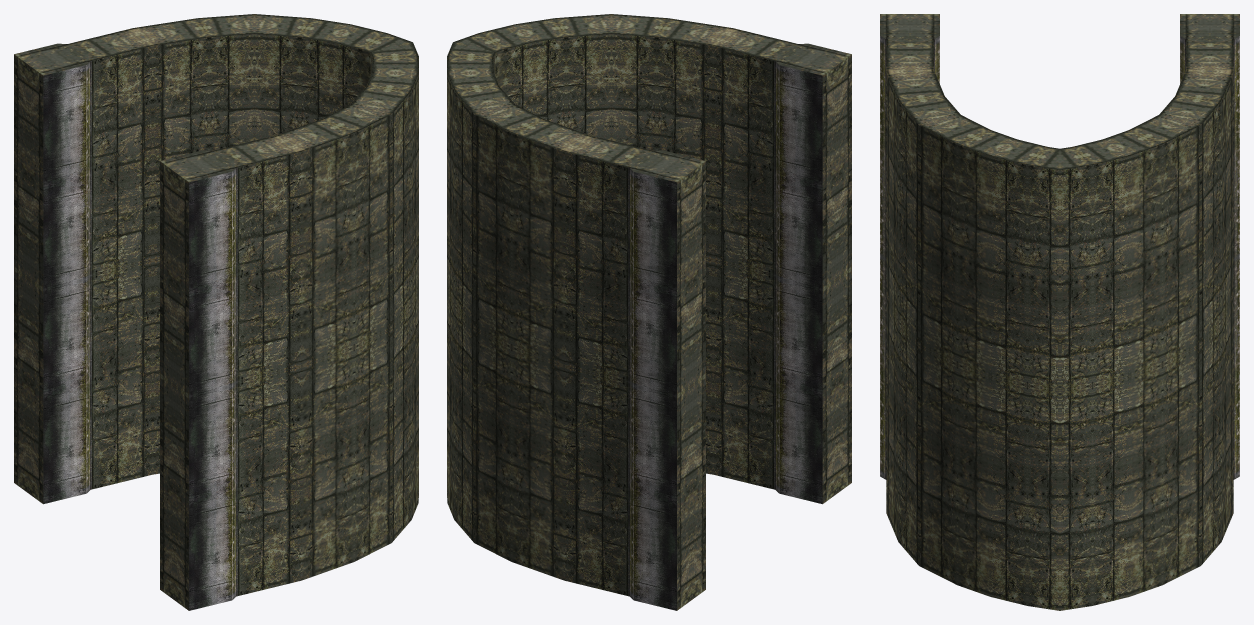
Rendered from Lab_ArcBig.gltf.
The picture shows the model from 3 angles, left to right: view 1: azimuth 30°, elevation 25°; view 2: azimuth 150°, elevation 25°; view 3: azimuth 270°, elevation 25°; orthographic projection. The views are drawn at different scales.
Parts seen in each view (by area): view 1: Lab_ArcBig; view 2: Lab_ArcBig; view 3: Lab_ArcBig.
Part boxes in pixels (left/top/right/bottom): Lab_ArcBig: left=14, top=14, right=418, bottom=610; Lab_ArcBig: left=447, top=14, right=851, bottom=610; Lab_ArcBig: left=880, top=14, right=1239, bottom=610.
Bounding box in the file's own units: 0.0494 × 0.065 × 0.0481.
1 material, 1 textured.
